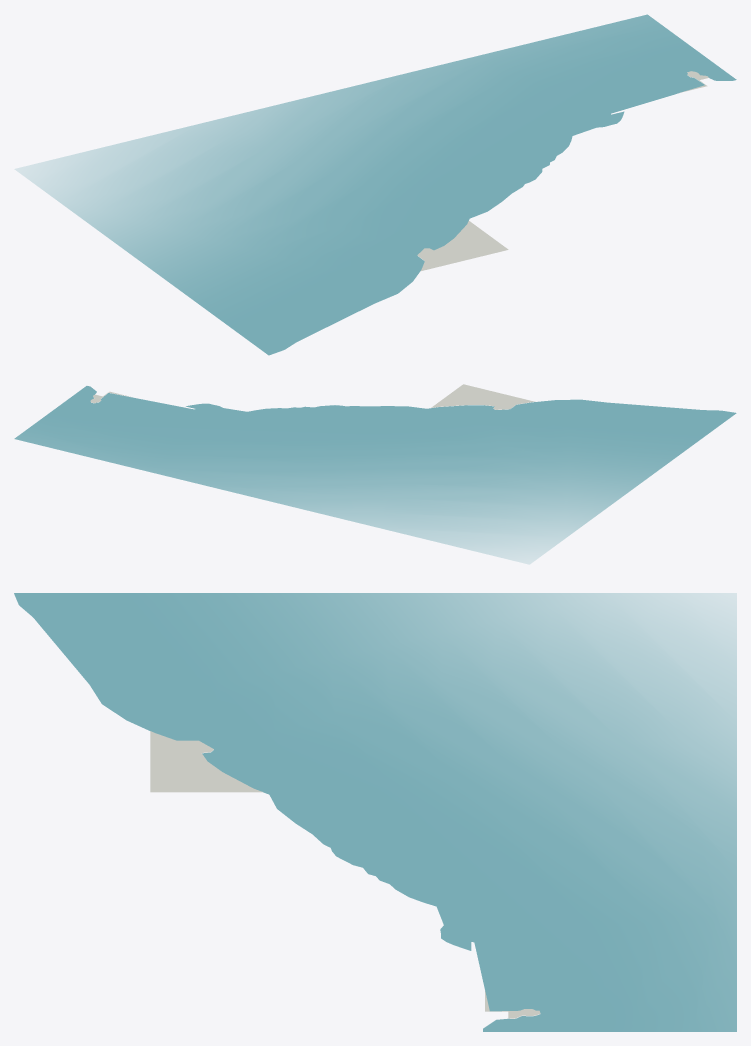
The picture shows the model from 3 angles, top to bottom: view 1: azimuth 30°, elevation 25°; view 2: azimuth 150°, elevation 25°; view 3: azimuth 270°, elevation 25°; orthographic projection. The views are drawn at different scales.
Parts seen in each view (by area): view 1: city; view 2: city; view 3: city.
Boxes of the visible parts, left/top/right/bottom form: city: left=15, top=14, right=736, bottom=355; city: left=14, top=384, right=736, bottom=564; city: left=14, top=593, right=736, bottom=1031.
Bounding box in the file's own units: 500 × 0.18 × 348.
